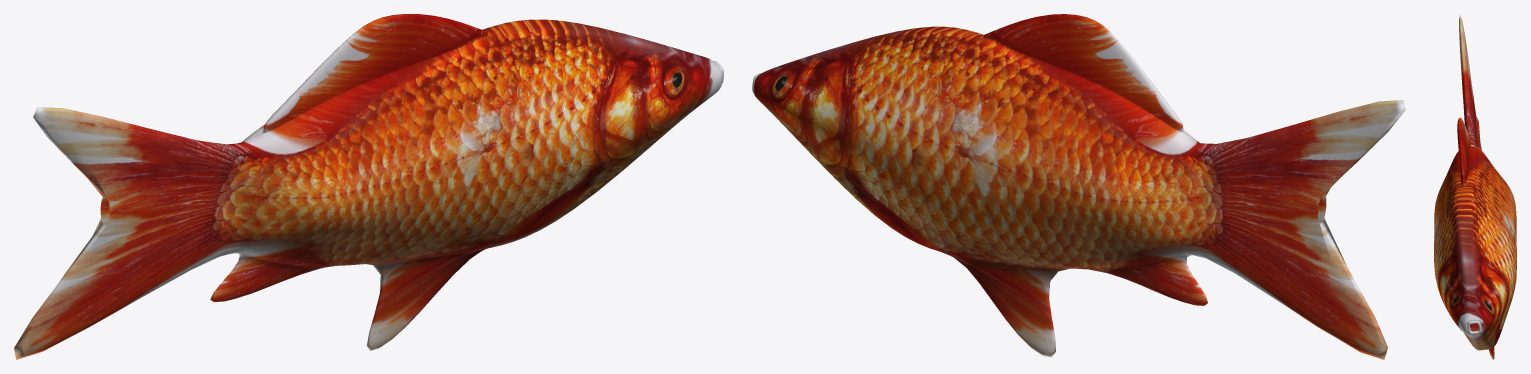
Rendered from goldfish_rigid_body.glb.
The picture shows the model from 3 angles, left to right: view 1: azimuth 30°, elevation 25°; view 2: azimuth 150°, elevation 25°; view 3: azimuth 270°, elevation 25°; orthographic projection. The views are drawn at different scales.
Parts seen in each view (by area): view 1: Cube; view 2: Cube; view 3: Cube.
Part boxes in pixels (x1,y1,x2,y2): Cube: (14, 14, 723, 359); Cube: (752, 14, 1405, 359); Cube: (1434, 14, 1516, 359).
Size of the model in its own units: 1.82 by 0.8855 by 0.2862.
1 material, 1 textured.
